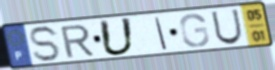G: (178, 12, 211, 49)
I: (153, 16, 169, 51)
R: (58, 23, 96, 60)
S: (28, 24, 63, 63)
U: (97, 17, 137, 58), (210, 8, 245, 46)
